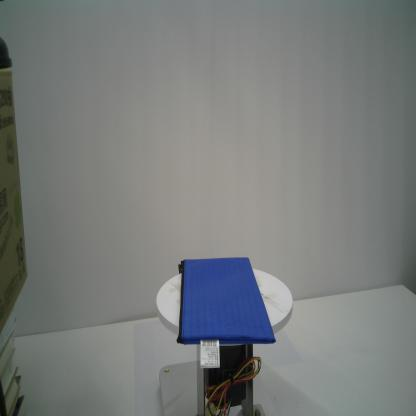Stationery: (176, 256, 277, 346)
